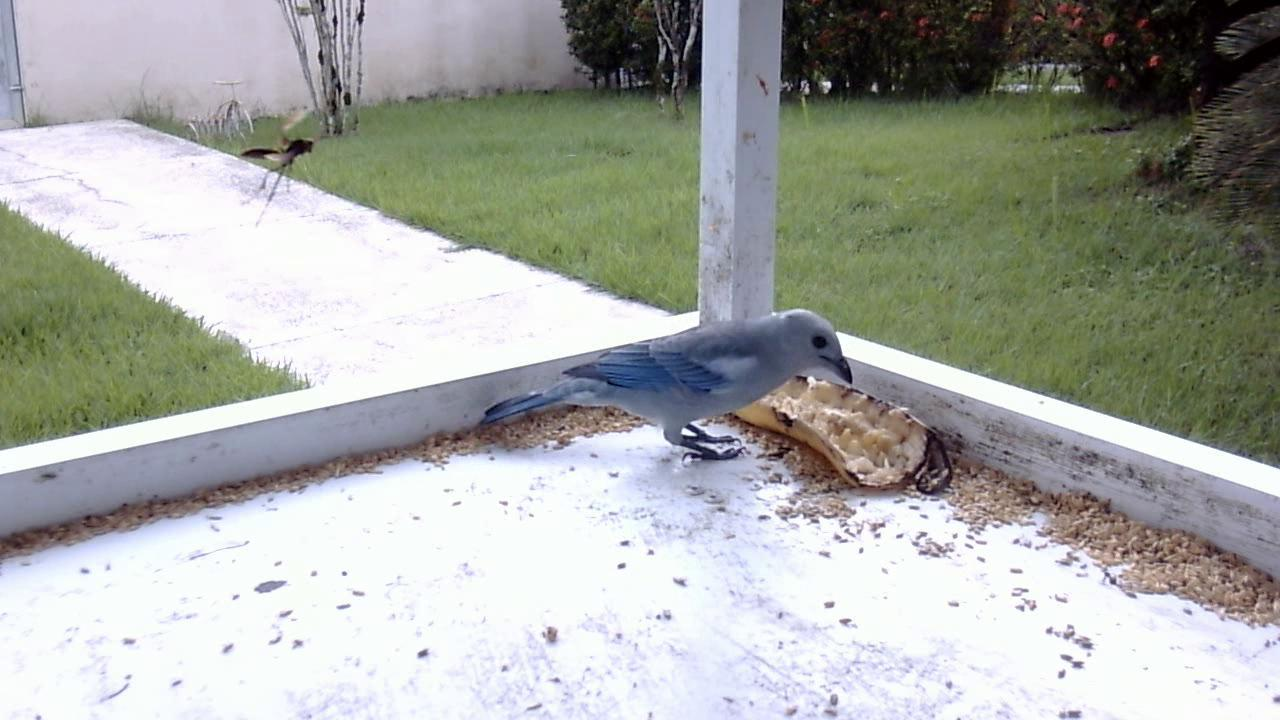sanhaco_da_amazonia: (479, 304, 852, 480)
